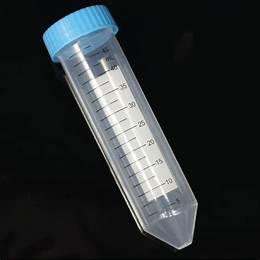Test tube: (28, 11, 211, 251)
